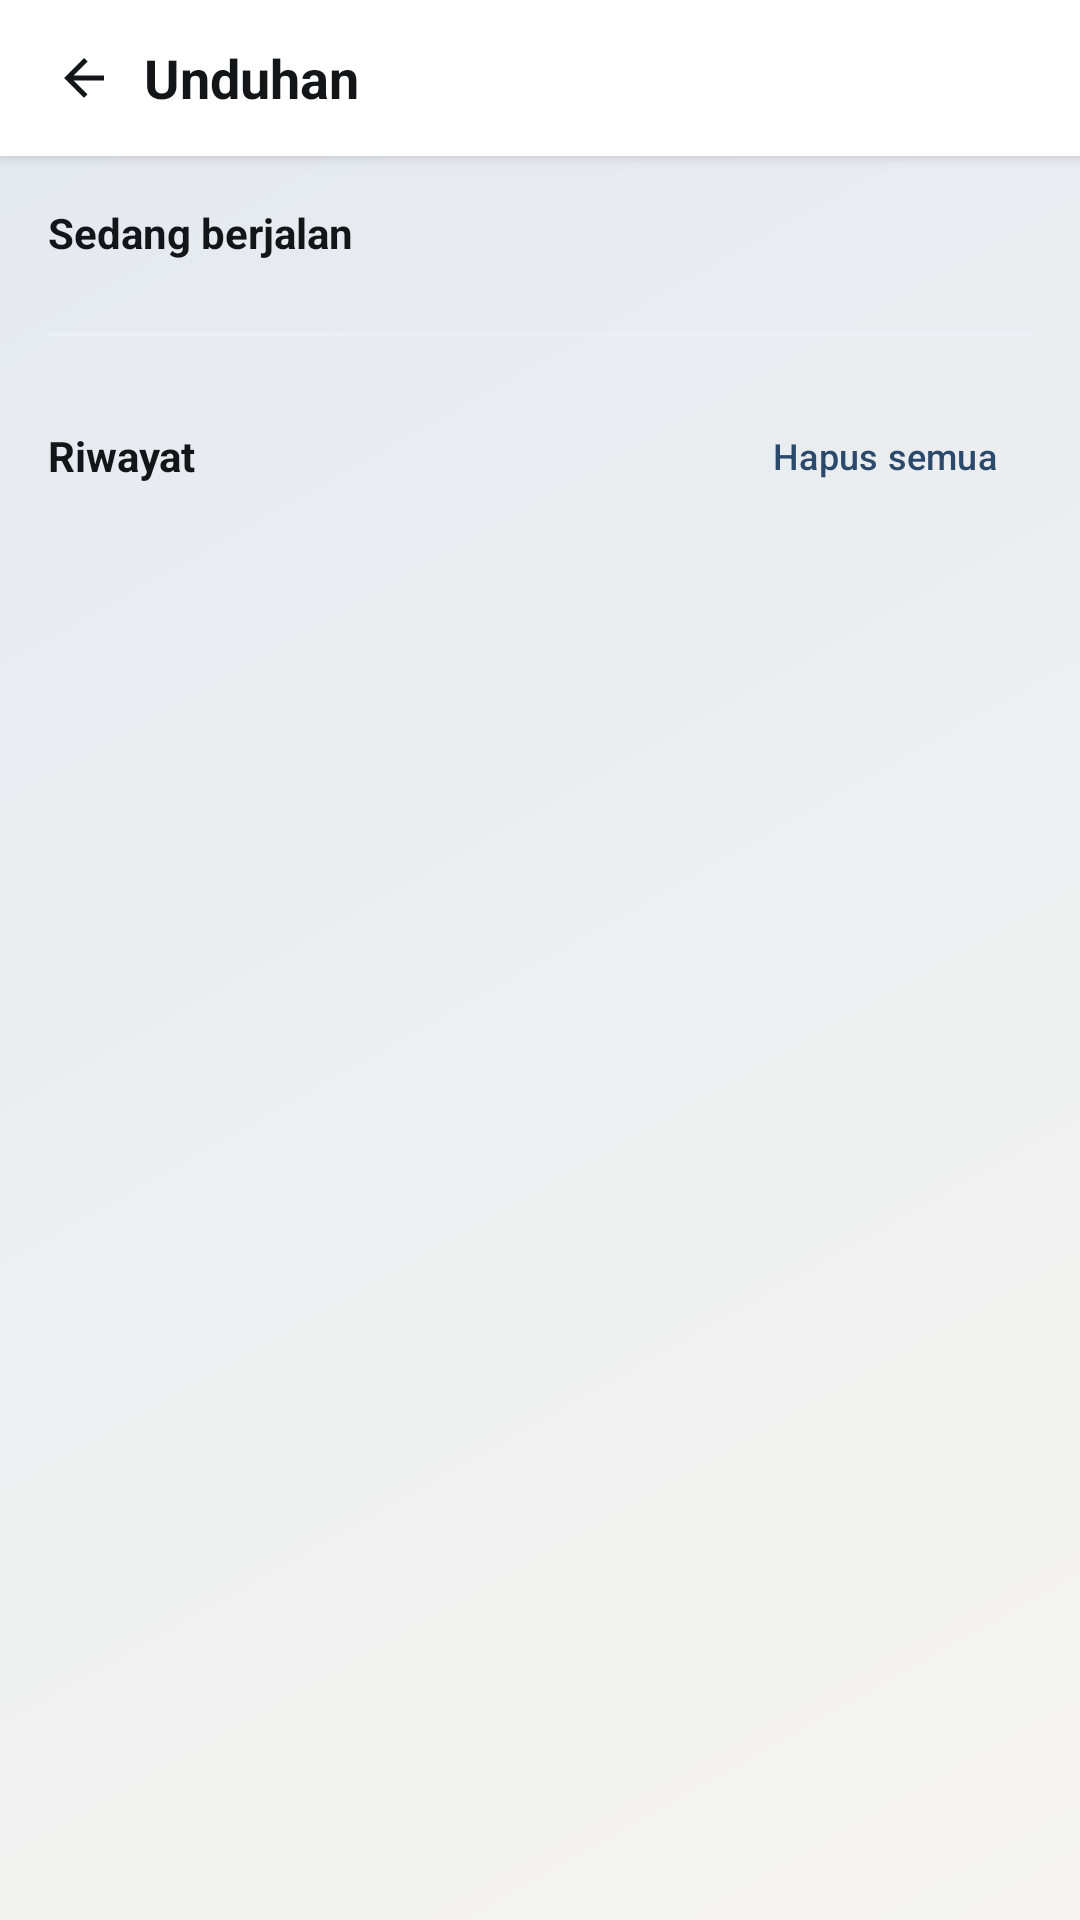

Where icons sit on this 1080w x 1920h app screen, as [x1, y1, x2, y2]:
Kembali: [64, 58, 104, 98]
